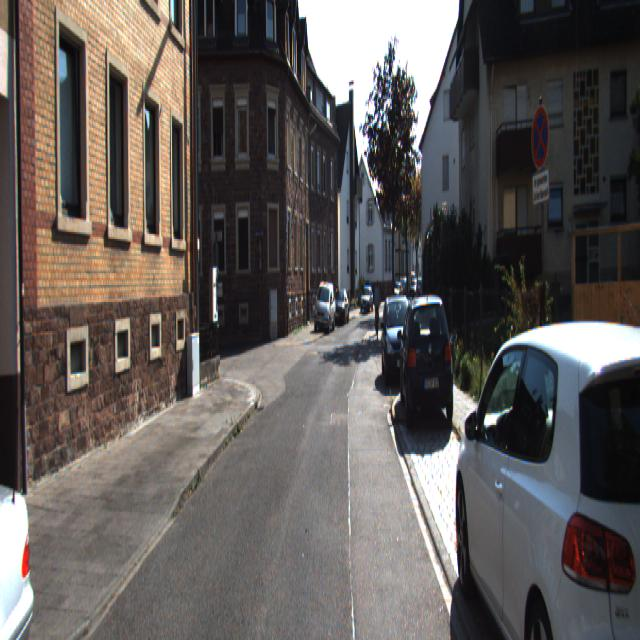Car: (448, 311, 640, 638), (0, 386, 56, 638), (398, 283, 456, 432), (380, 290, 418, 388), (313, 282, 337, 334), (331, 288, 350, 325)
